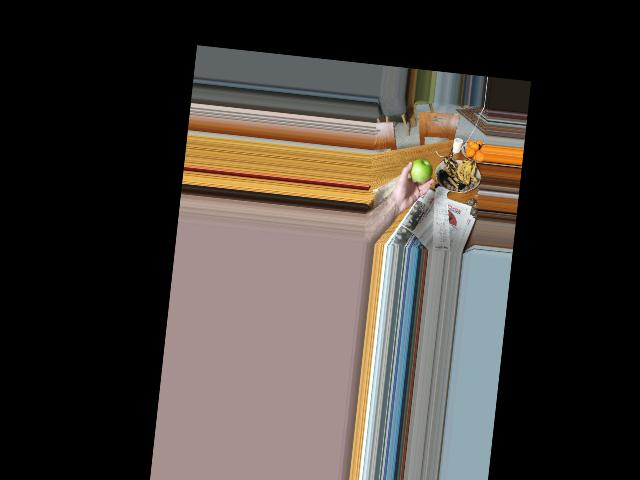apple: (408, 156, 432, 182)
